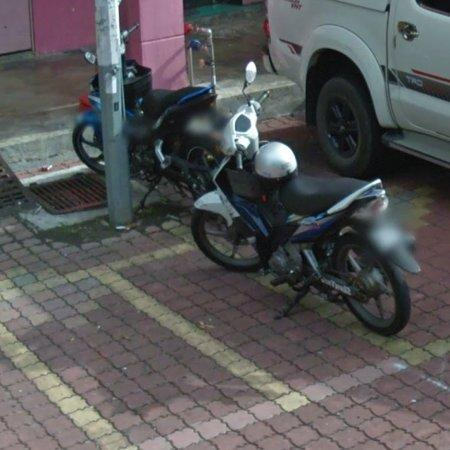motorcycles: (192, 61, 420, 336), (121, 25, 228, 206), (72, 74, 103, 174)
